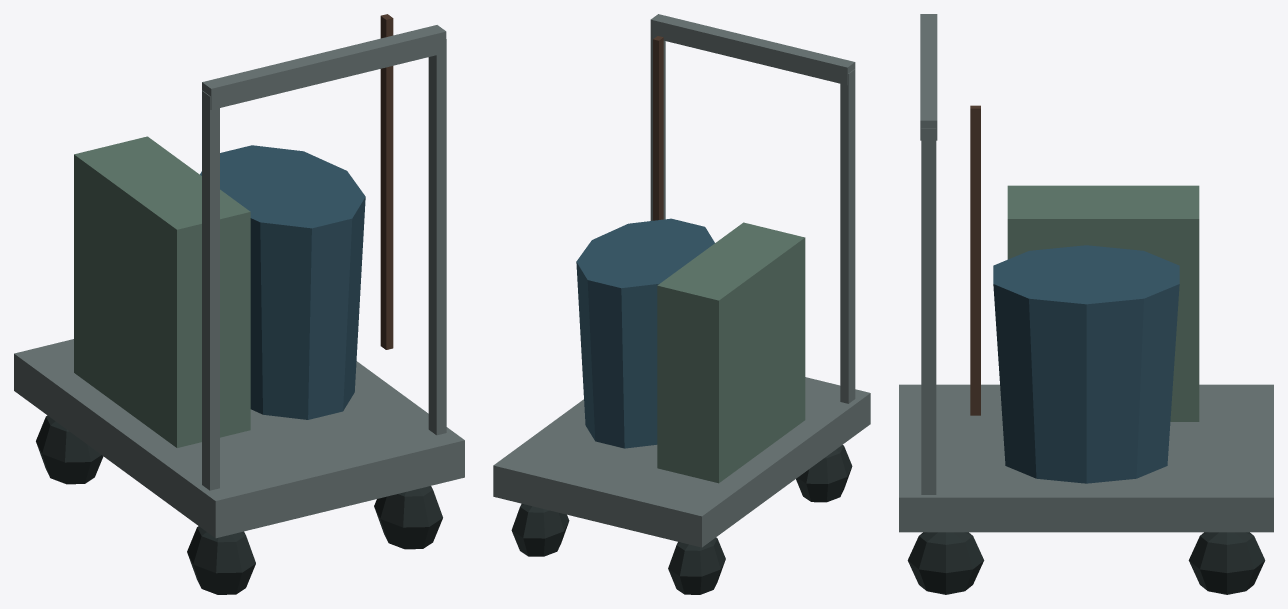
The model's file is LP_MaintenanceEast_CleaningCart.fbx.
The picture shows the model from 3 angles, left to right: view 1: azimuth 30°, elevation 25°; view 2: azimuth 150°, elevation 25°; view 3: azimuth 270°, elevation 25°; orthographic projection. The views are drawn at different scales.
Visible parts, largest first — view 1: M_Museum_BrushedMetal, SageUpholstery, M_Museum_DeepBlue, Charcoal, Walnut; view 2: M_Museum_BrushedMetal, SageUpholstery, M_Museum_DeepBlue, Charcoal, Walnut; view 3: M_Museum_BrushedMetal, M_Museum_DeepBlue, SageUpholstery, Charcoal, Walnut.
Boxes of the visible parts, x1=… form: M_Museum_BrushedMetal: x1=14, y1=25, x2=464, y2=538; SageUpholstery: x1=74, y1=136, x2=250, y2=447; M_Museum_DeepBlue: x1=200, y1=145, x2=365, y2=419; Charcoal: x1=36, y1=415, x2=442, y2=594; Walnut: x1=380, y1=14, x2=393, y2=349; M_Museum_BrushedMetal: x1=493, y1=14, x2=870, y2=547; SageUpholstery: x1=657, y1=222, x2=805, y2=483; M_Museum_DeepBlue: x1=576, y1=218, x2=714, y2=448; Charcoal: x1=511, y1=445, x2=852, y2=594; Walnut: x1=653, y1=36, x2=663, y2=220; M_Museum_BrushedMetal: x1=899, y1=14, x2=1273, y2=532; M_Museum_DeepBlue: x1=993, y1=245, x2=1179, y2=483; SageUpholstery: x1=1007, y1=185, x2=1199, y2=421; Charcoal: x1=907, y1=532, x2=1265, y2=594; Walnut: x1=970, y1=105, x2=980, y2=415.
Bounding box in the file's own units: 50 × 100 × 70.
